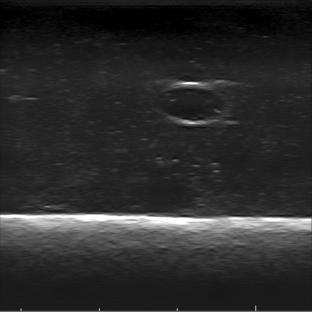vessel: (157, 81, 226, 126)
